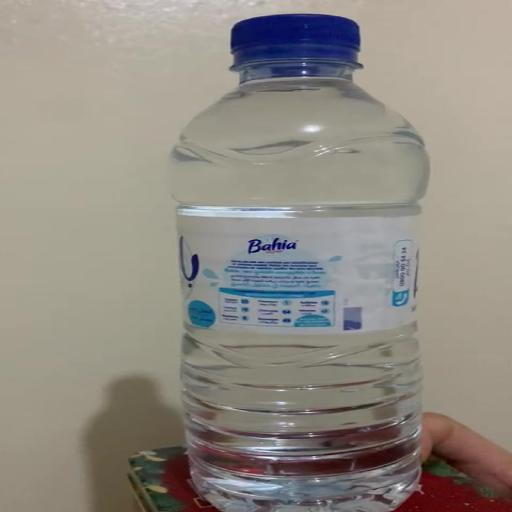bouteille conformite: (185, 20, 464, 512)
